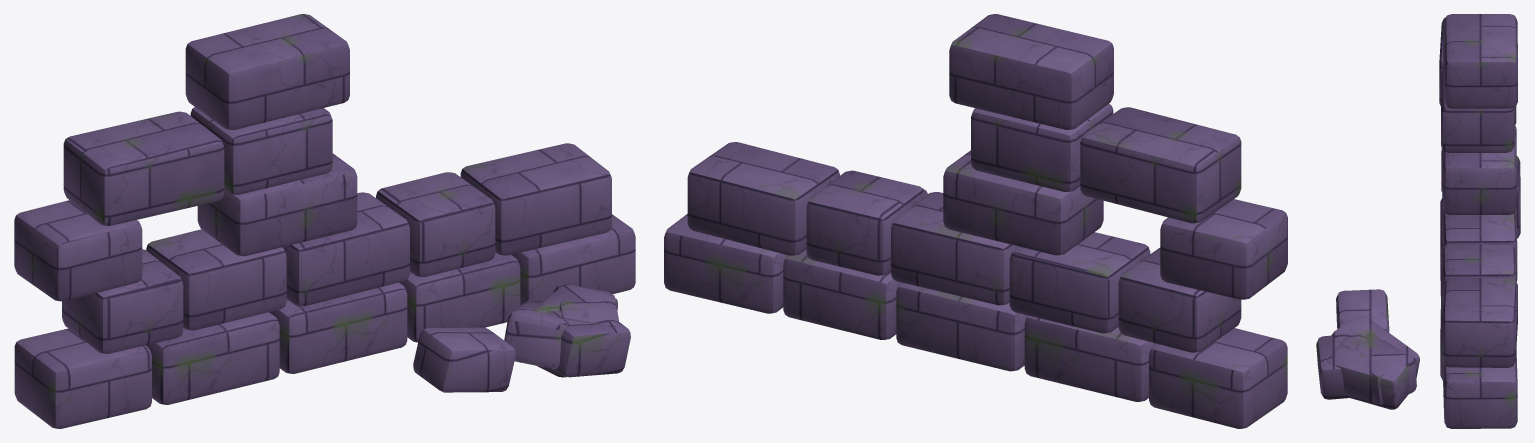
The model's file is GIN_UG_RuinWall.fbx.
3 renders of one model, left to right at view 1: azimuth 30°, elevation 25°; view 2: azimuth 150°, elevation 25°; view 3: azimuth 270°, elevation 25°, orthographic. The views are drawn at different scales.
Parts seen in each view (by area): view 1: GIN_UG_RuinWall; view 2: GIN_UG_RuinWall; view 3: GIN_UG_RuinWall.
Boxes of the visible parts, box(x1,y1,x2,y2) form: GIN_UG_RuinWall: box(14, 14, 635, 428); GIN_UG_RuinWall: box(664, 14, 1287, 428); GIN_UG_RuinWall: box(1316, 14, 1520, 428).
Size of the model in its own units: 3.72 by 2.02 by 1.39.
